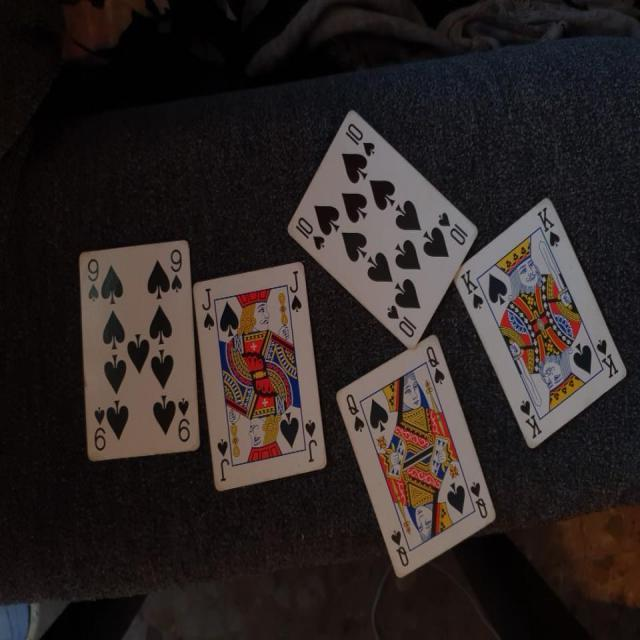10 of spades: (283, 100, 487, 350)
9 of spades: (68, 242, 202, 470)
jack of spades: (192, 256, 334, 503)
king of spades: (452, 188, 624, 450)
queen of spades: (334, 329, 502, 592)
